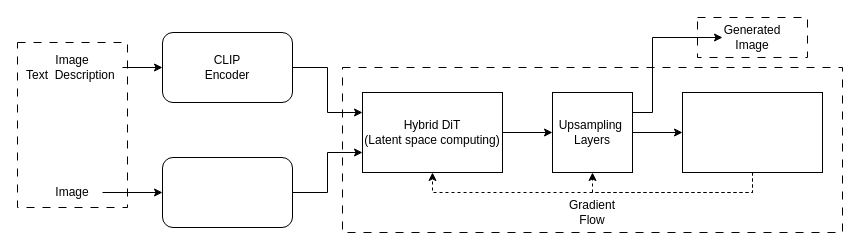
The diagram is 860 pixels wide and 250 high, and some of its shapes have lost their labels. The centre of each missing label's shape, as x and y in pixels:
Discriminator: the point at 752,132
VAE Encoder: the point at 227,192
